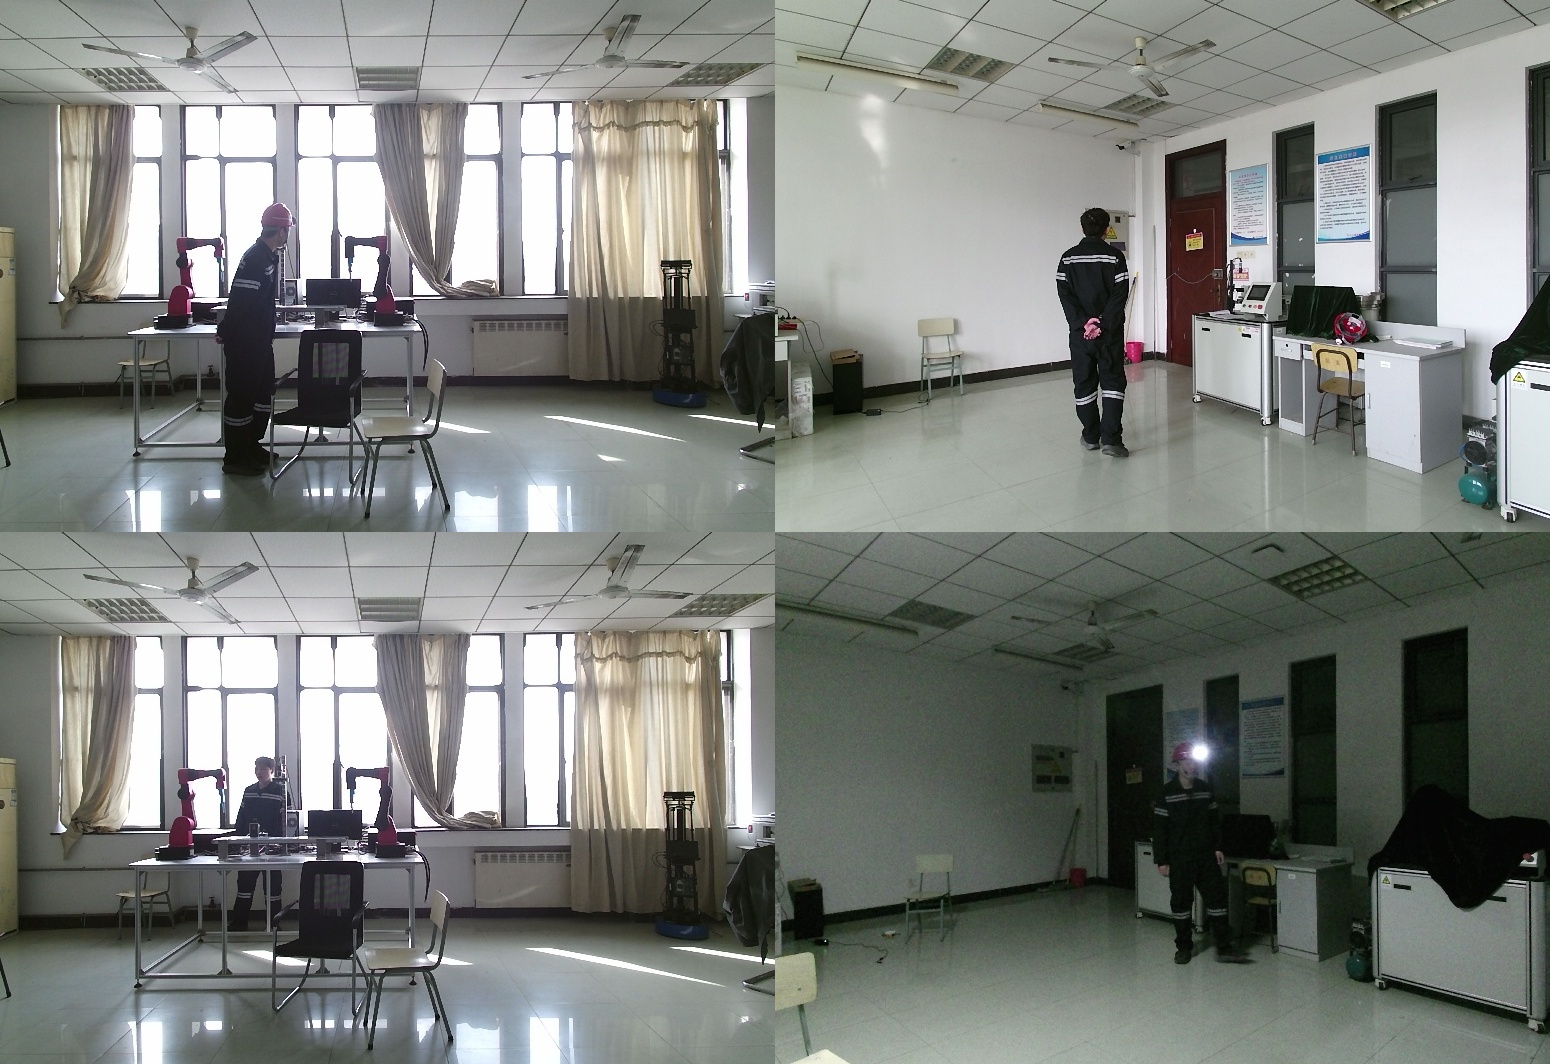person: (1054, 209, 1141, 460), (1146, 741, 1237, 975), (220, 204, 293, 478), (229, 756, 297, 934)
